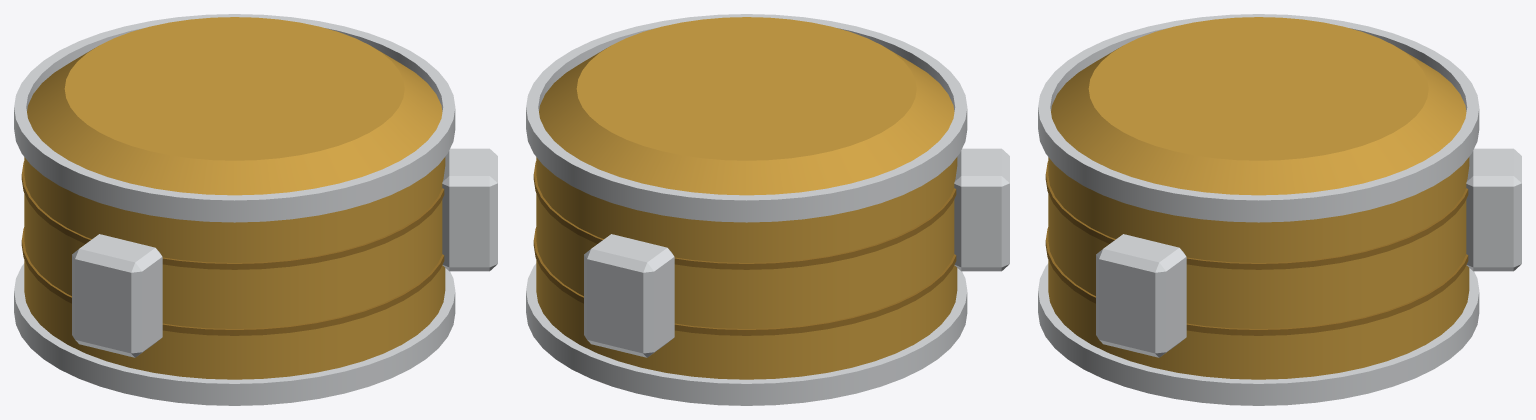
3 renders of one model, left to right at view 1: azimuth 30°, elevation 25°; view 2: azimuth 150°, elevation 25°; view 3: azimuth 270°, elevation 25°, orthographic.
Parts seen in each view (by area): view 1: pa100_rx; view 2: pa100_rx; view 3: pa100_rx.
Part boxes in pixels (bbox=[...]): pa100_rx: bbox=[14, 14, 497, 405]; pa100_rx: bbox=[526, 14, 1009, 405]; pa100_rx: bbox=[1038, 14, 1521, 405].
Size of the model in its own units: 1.21 by 0.66 by 1.19.
